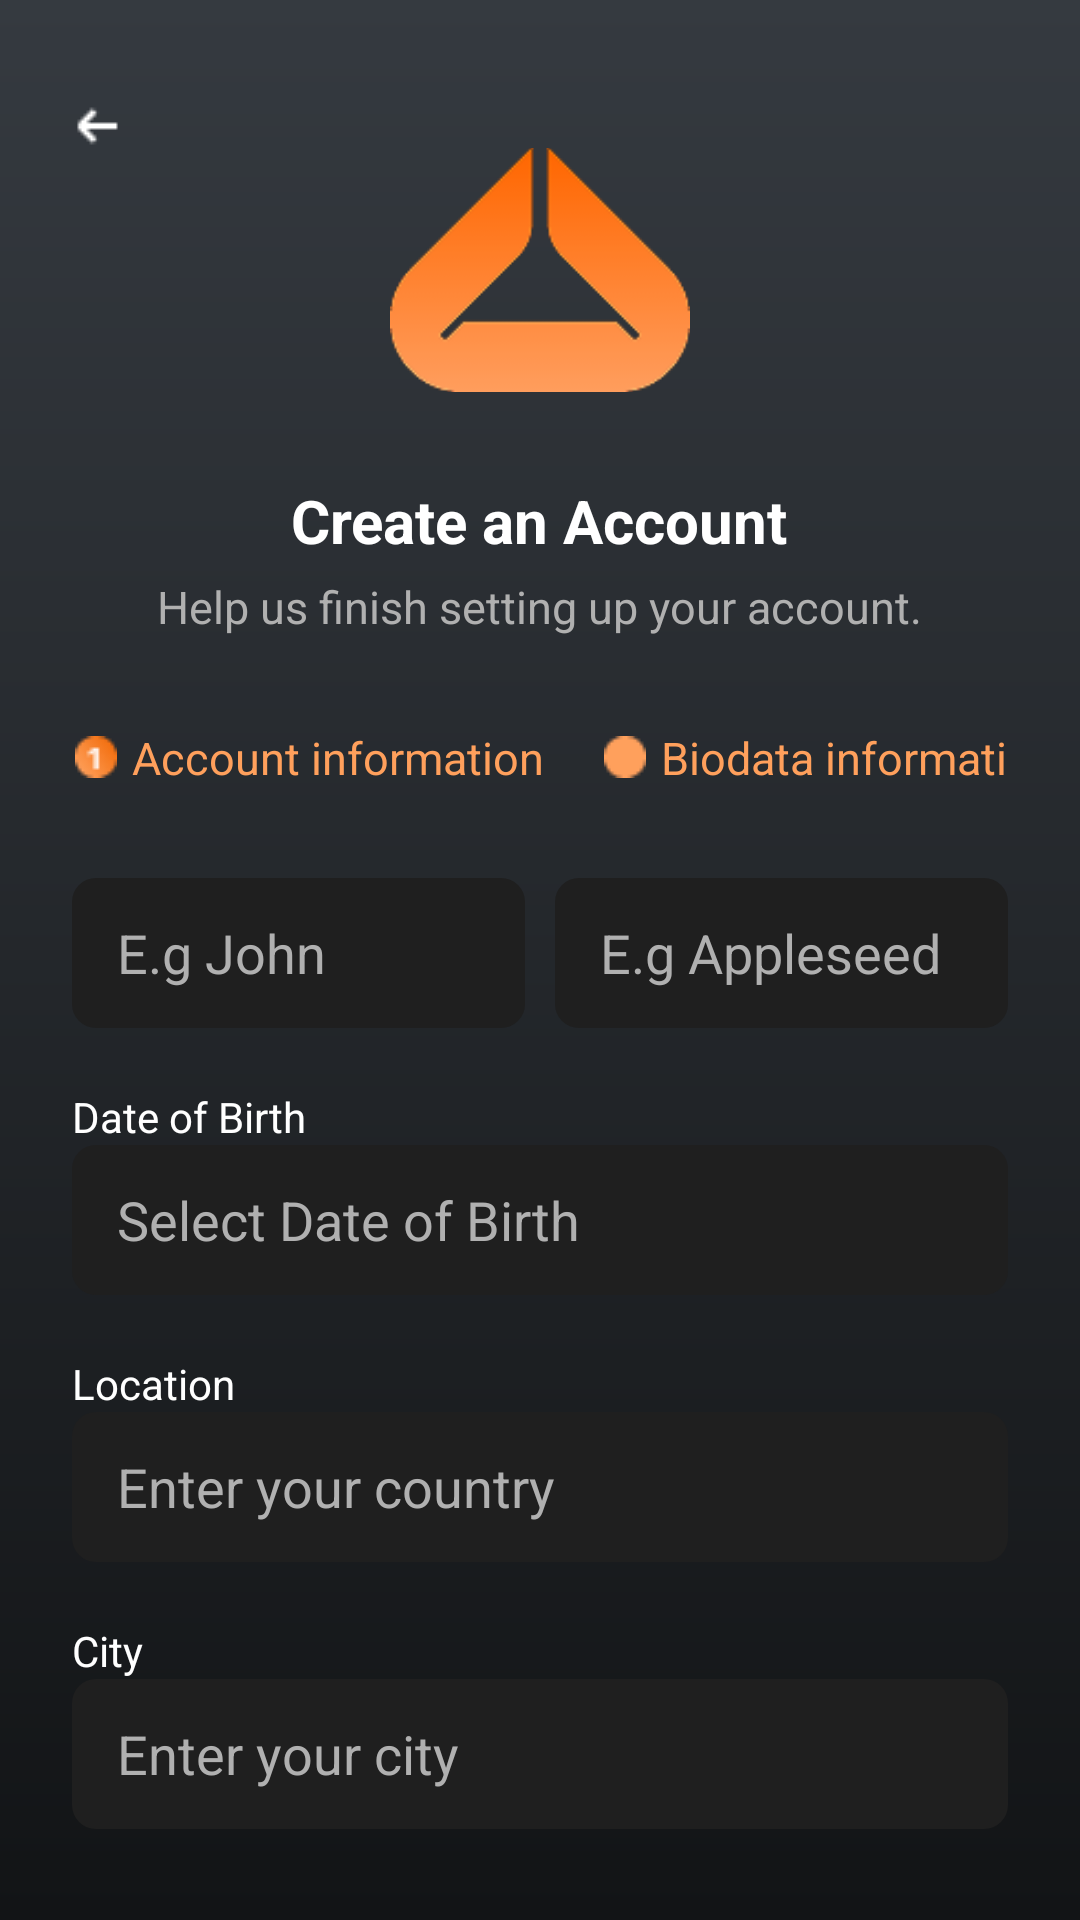

Named icons in this screenshot (1080*1920) and their centers, point (x, y):
Back: point (97, 125)
